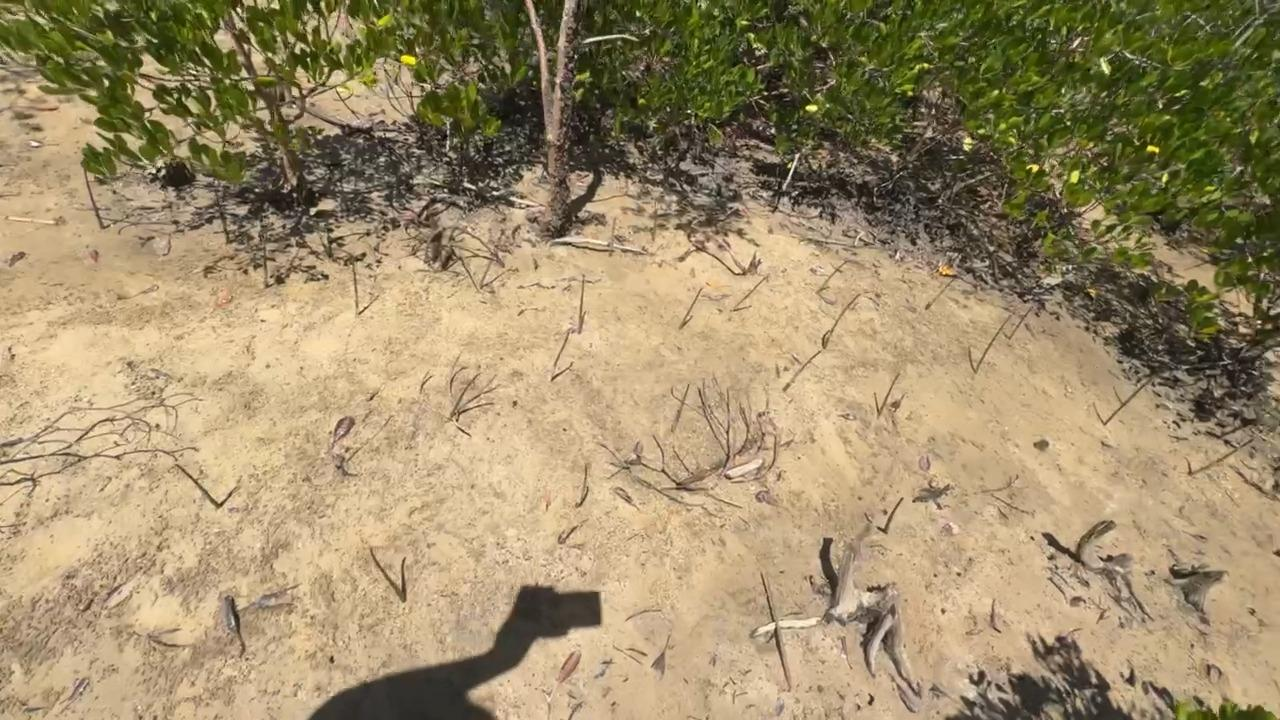Tree: (759, 566, 795, 689), (969, 314, 1011, 374), (1189, 438, 1255, 476), (1104, 379, 1157, 426), (821, 292, 861, 350), (173, 461, 222, 507), (783, 348, 823, 393), (731, 273, 770, 311), (874, 372, 904, 417), (84, 168, 106, 228), (212, 186, 234, 241), (670, 383, 694, 431), (815, 260, 848, 293), (1003, 306, 1034, 340), (678, 287, 703, 329), (551, 328, 571, 379), (925, 274, 954, 309), (570, 465, 592, 508), (881, 496, 905, 533), (577, 270, 589, 336), (348, 259, 359, 315), (549, 359, 574, 381), (605, 215, 617, 259), (261, 224, 269, 288), (400, 553, 409, 604), (649, 204, 660, 241)
